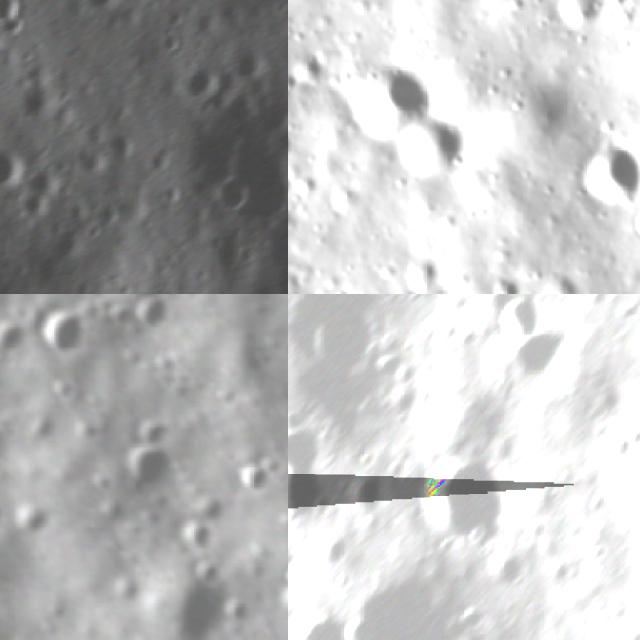crater: (184, 90, 288, 241), (413, 450, 510, 554), (305, 304, 393, 384), (344, 52, 428, 134), (232, 191, 288, 294), (402, 116, 475, 184), (574, 134, 640, 205), (163, 580, 229, 640), (504, 328, 568, 384), (33, 302, 91, 361), (122, 438, 173, 497), (288, 409, 330, 476), (496, 294, 549, 347), (288, 603, 357, 640), (0, 129, 36, 198), (288, 471, 324, 528), (134, 294, 177, 340), (175, 518, 226, 556), (231, 461, 278, 497), (551, 0, 603, 31), (0, 0, 39, 41), (288, 47, 327, 87), (604, 424, 640, 467), (404, 252, 445, 288), (537, 273, 589, 294), (487, 272, 530, 294), (622, 198, 640, 241), (74, 0, 125, 14), (593, 0, 633, 12), (288, 167, 293, 201)
